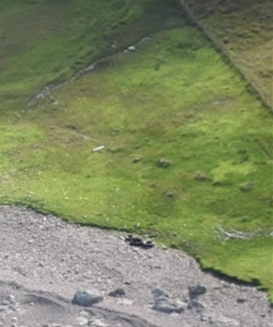white_in_green: (113, 215, 166, 261)
